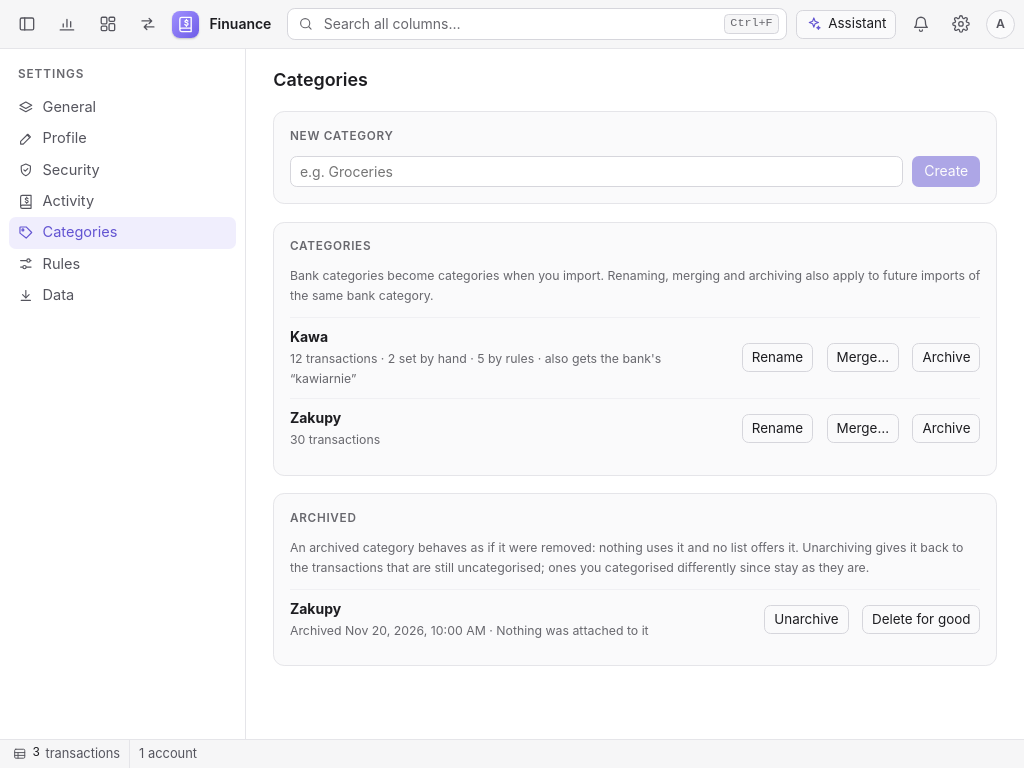
Test case: Settings → Categories › says why an archived category can not come back while its name is in use
The width and height of the screenshot is (1024, 768).
expect the text "Archived Nov 20, 2026, 10:00 AM · Nothing was attached to it" is shown: met, box [290, 623, 649, 638]
Click the button with aria-label "Unarchive Zakupy" at (806, 620), box [764, 605, 848, 634]
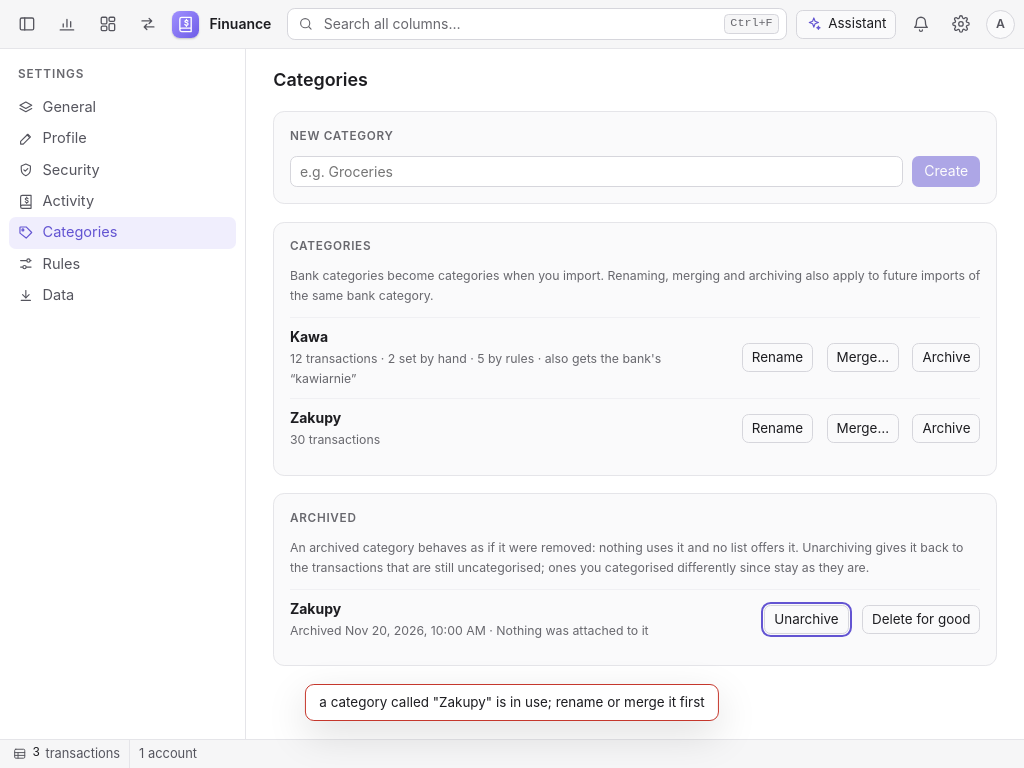
expect the 2nd text "Zakupy" is shown: met, box [290, 599, 341, 619]
expect the text "a category called \"Zakupy\" is in use; rename or merge it first" is shown: met, box [305, 684, 719, 721]
